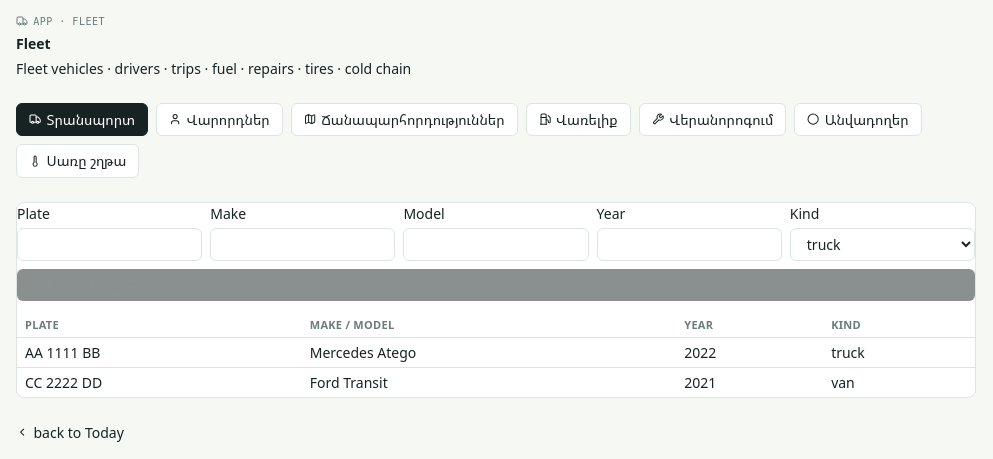
Test: Fleet — tab switching › clicking the drivers tab reveals the fleet-drivers-panel panel
The image size is (993, 459).
Click the tab with test id "fleet-tab-drivers": coordinates (219, 119) [156,102,283,136]
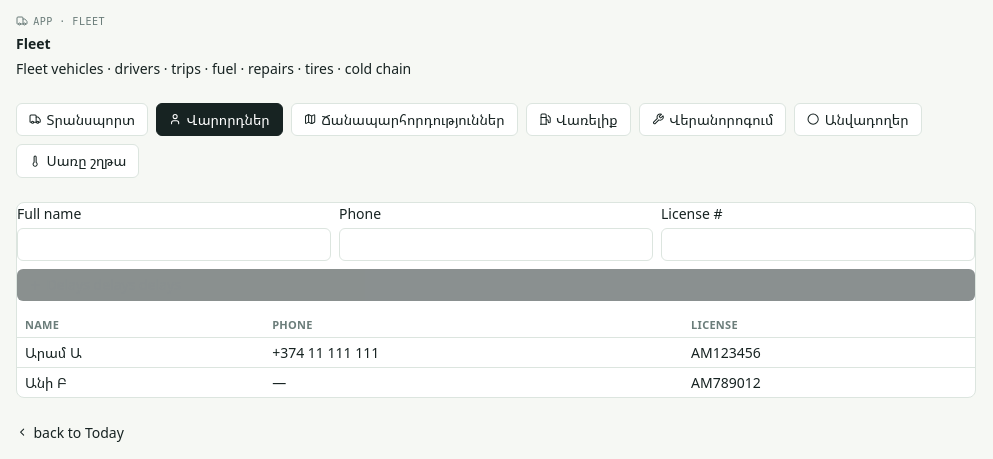
Result: the element with test id "fleet-drivers-panel" is shown at [16,202,976,398]
